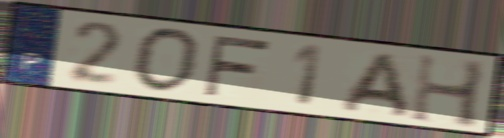1: (289, 41, 325, 108)
2: (69, 19, 125, 88)
A: (335, 49, 413, 121)
F: (200, 32, 275, 98)
H: (407, 51, 491, 131)
O: (130, 25, 204, 95)
